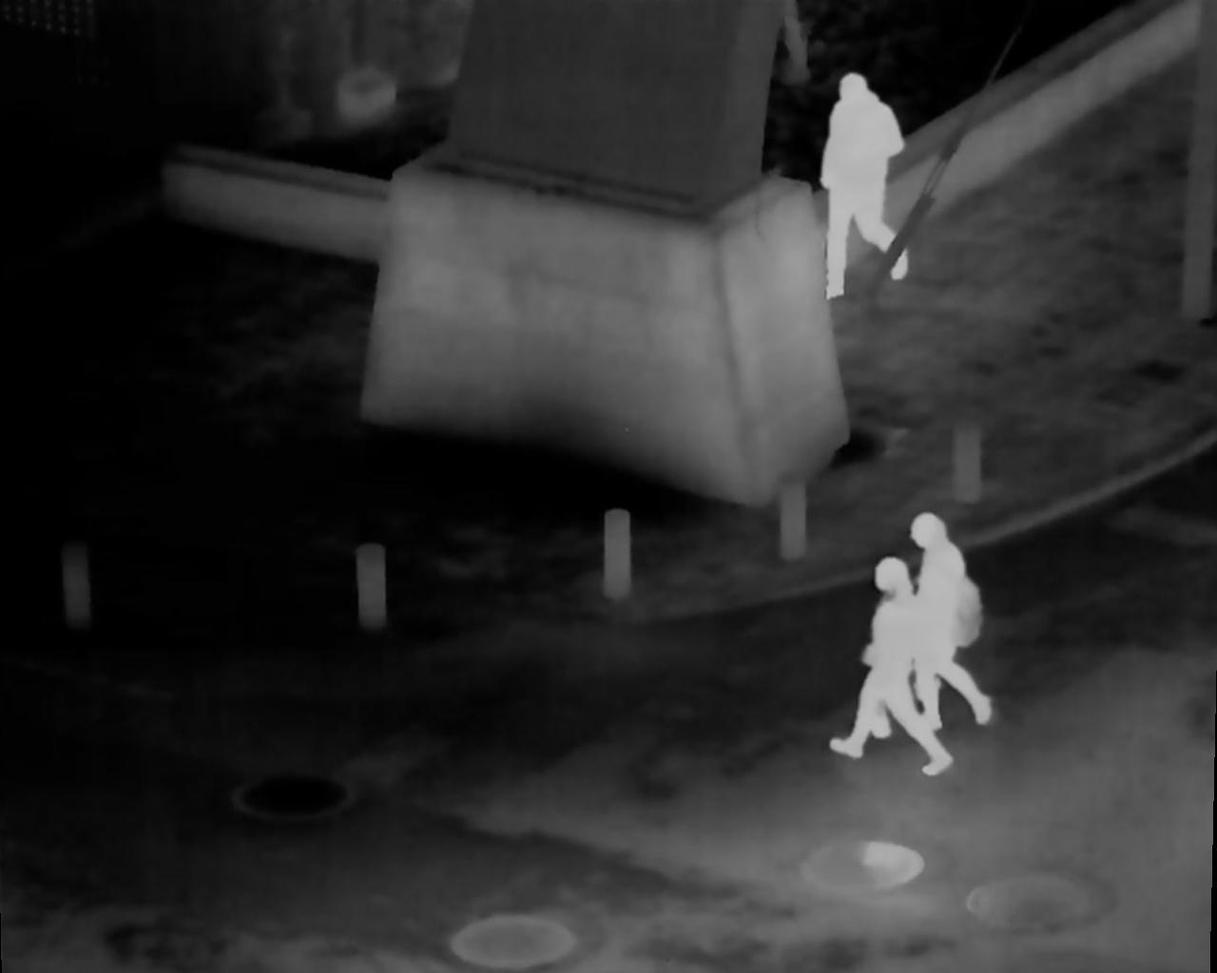person: (830, 556, 956, 773), (897, 510, 995, 731), (825, 71, 909, 305)
